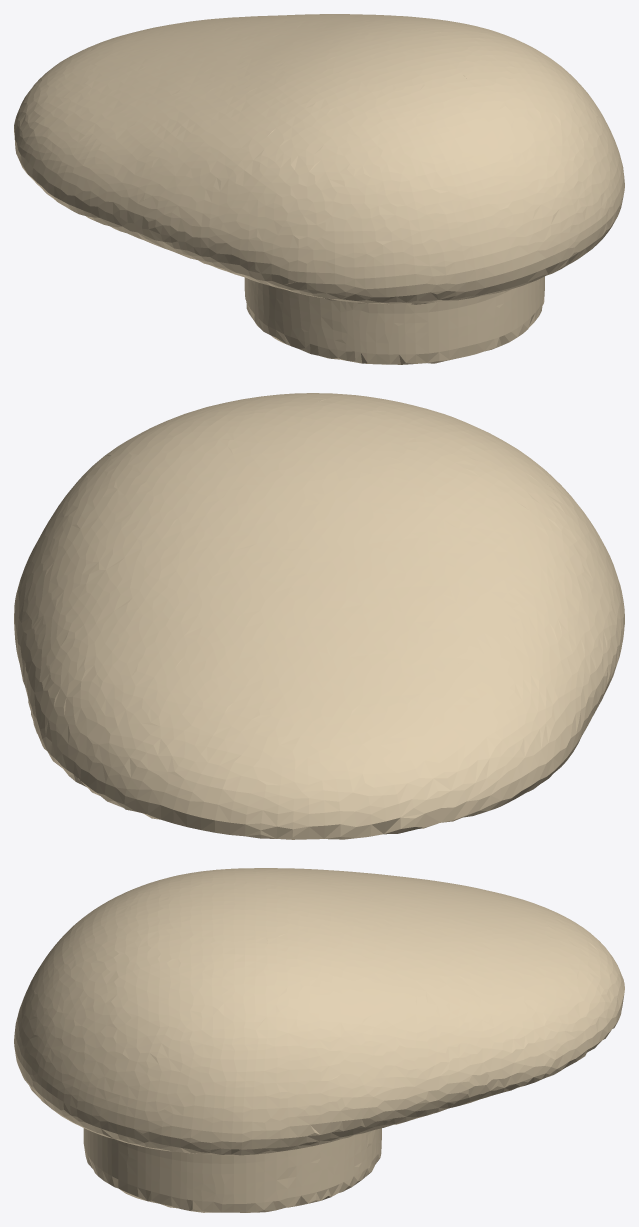
File: skulptur-04.glb
The picture shows the model from 3 angles, top to bottom: view 1: azimuth 30°, elevation 25°; view 2: azimuth 150°, elevation 25°; view 3: azimuth 270°, elevation 25°; orthographic projection. The views are drawn at different scales.
Parts seen in each view (by area): view 1: skulptur-04; view 2: skulptur-04; view 3: skulptur-04.
Part boxes in pixels (x1,y1,x2,y2): skulptur-04: [14, 14, 624, 364]; skulptur-04: [14, 393, 624, 839]; skulptur-04: [14, 868, 624, 1212].
Bounding box in the file's own units: 0.8684 × 0.4481 × 0.9977.
